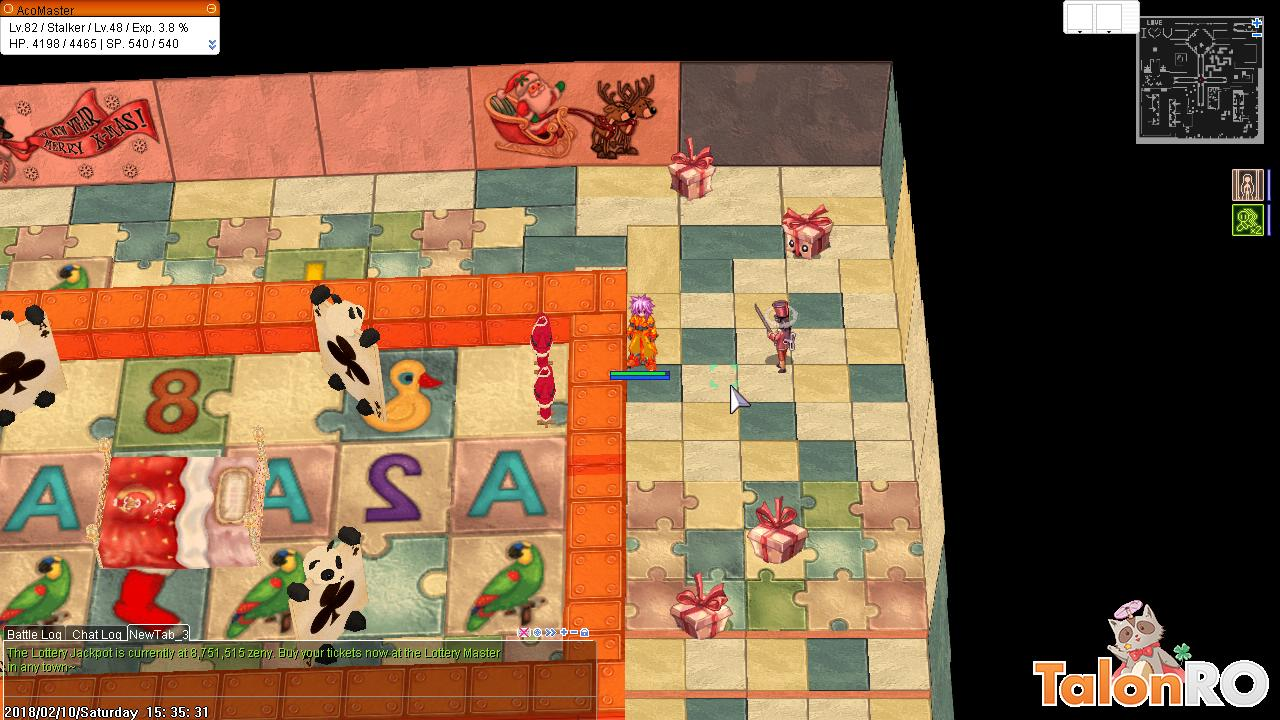mob: (751, 296, 804, 379)
myst_case: (746, 491, 811, 571), (670, 568, 735, 646), (777, 196, 839, 269), (665, 130, 721, 202)
